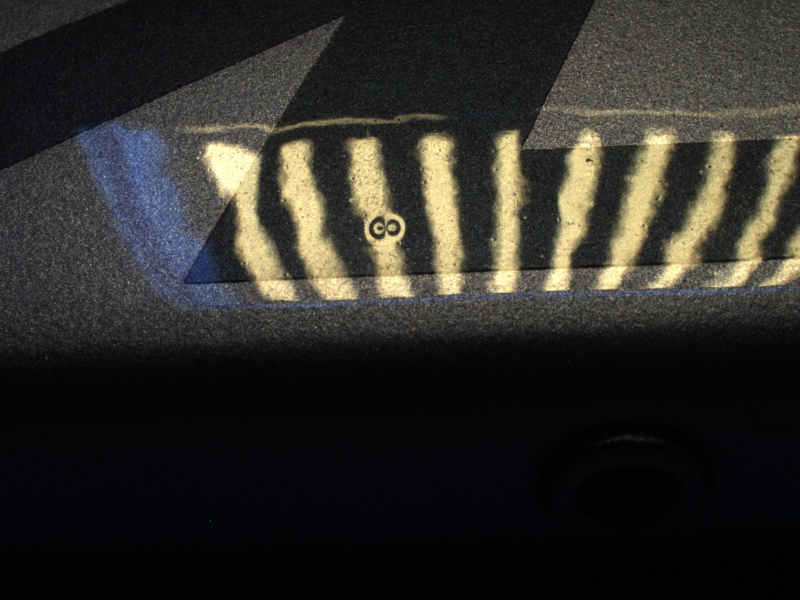bad: (361, 207, 410, 249)
